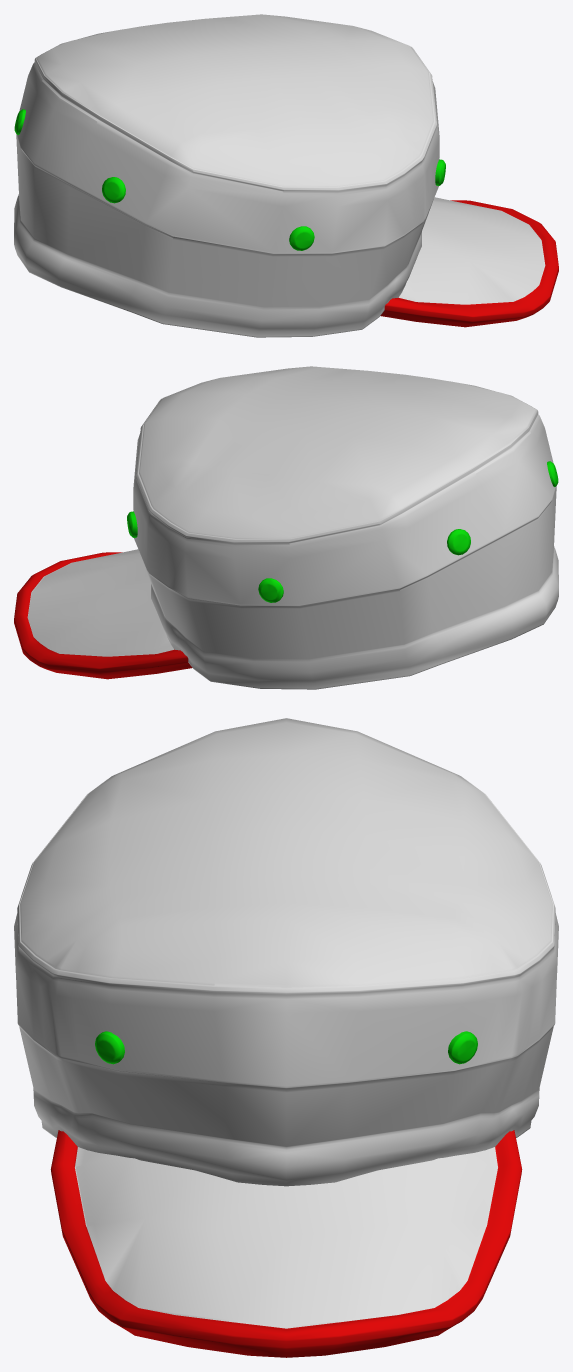
File: SM_Cap_hat.fbx
The picture shows the model from 3 angles, top to bottom: view 1: azimuth 30°, elevation 25°; view 2: azimuth 150°, elevation 25°; view 3: azimuth 270°, elevation 25°; orthographic projection. The views are drawn at different scales.
Visible parts, largest first — view 1: SM_Cap_Hat; view 2: SM_Cap_Hat; view 3: SM_Cap_Hat.
Part boxes in pixels (x1,y1,x2,y2): SM_Cap_Hat: (14,14,558,337); SM_Cap_Hat: (14,366,558,689); SM_Cap_Hat: (14,718,558,1357).
Size of the model in its own units: 25.15 by 17.83 by 13.12.
